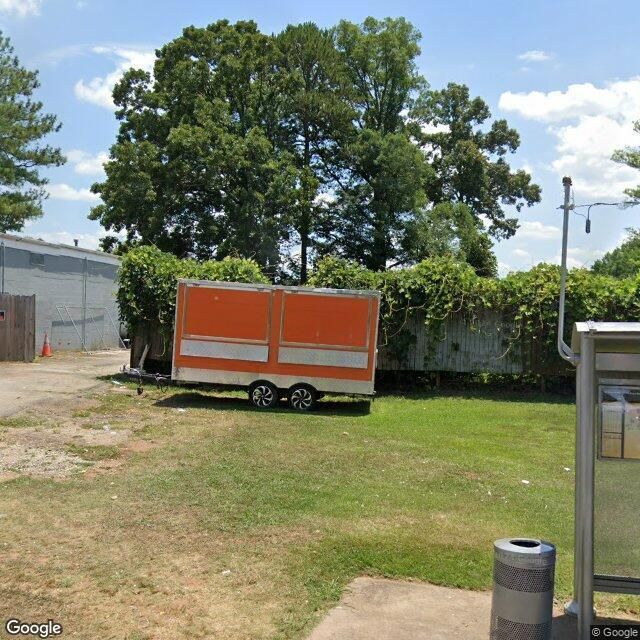shelter: (570, 320, 640, 638)
trash_can: (490, 537, 556, 640)
